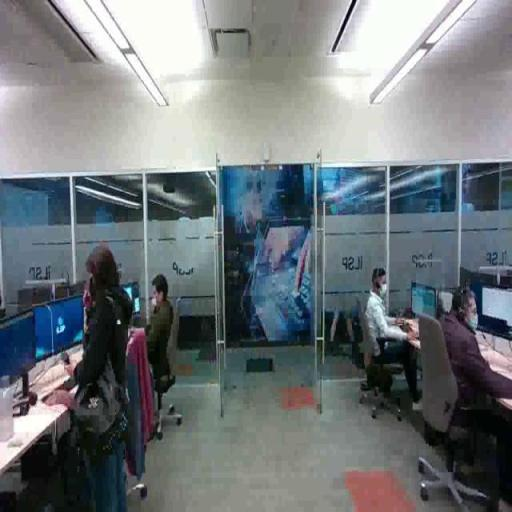person: (65, 241, 135, 512)
